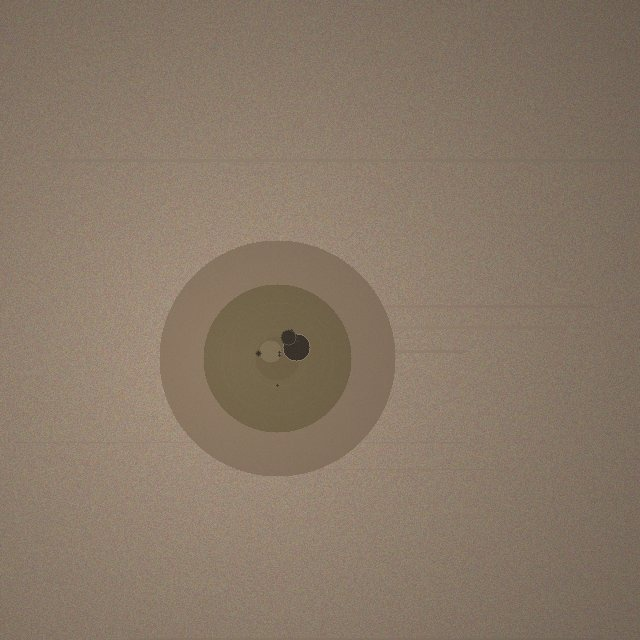shrinkage: (159, 240, 395, 476)
